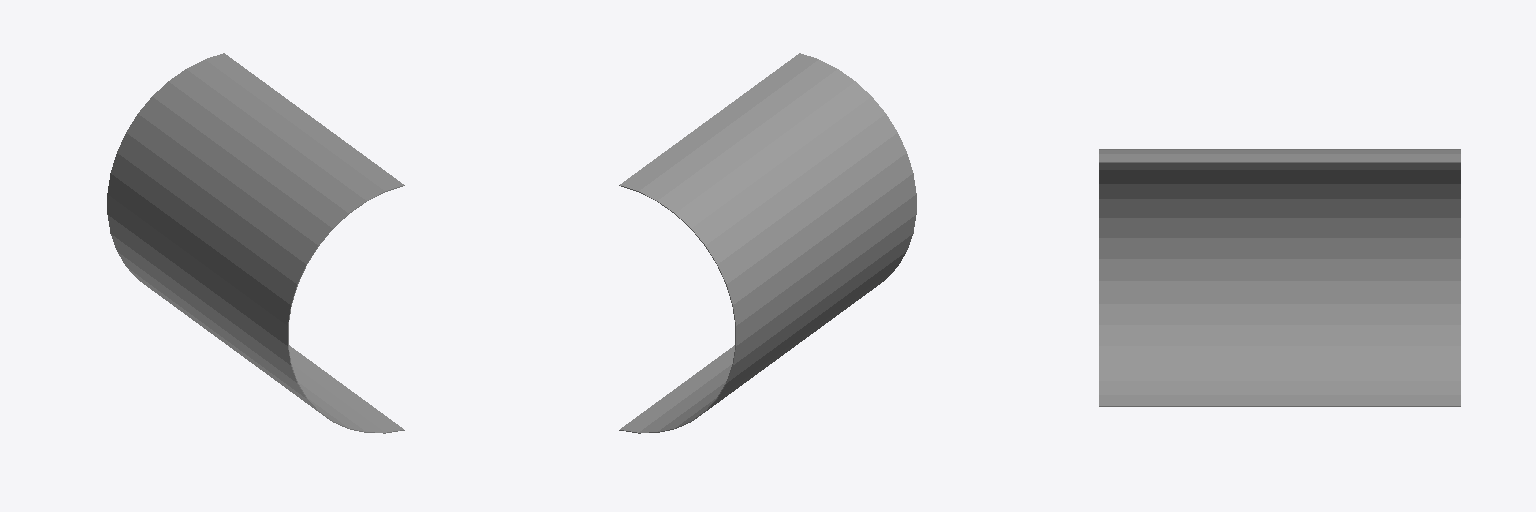
Rendered from fondo.obj.
3 renders of one model, left to right at view 1: azimuth 30°, elevation 25°; view 2: azimuth 150°, elevation 25°; view 3: azimuth 270°, elevation 25°, orthographic.
Visible parts, largest first — view 1: fondo; view 2: fondo; view 3: fondo.
Boxes of the visible parts, x1,y1,x2,y2 form: fondo: [107, 53, 404, 433]; fondo: [619, 53, 916, 433]; fondo: [1099, 149, 1460, 406].
Size of the model in its own units: 74.74 by 150 by 200.